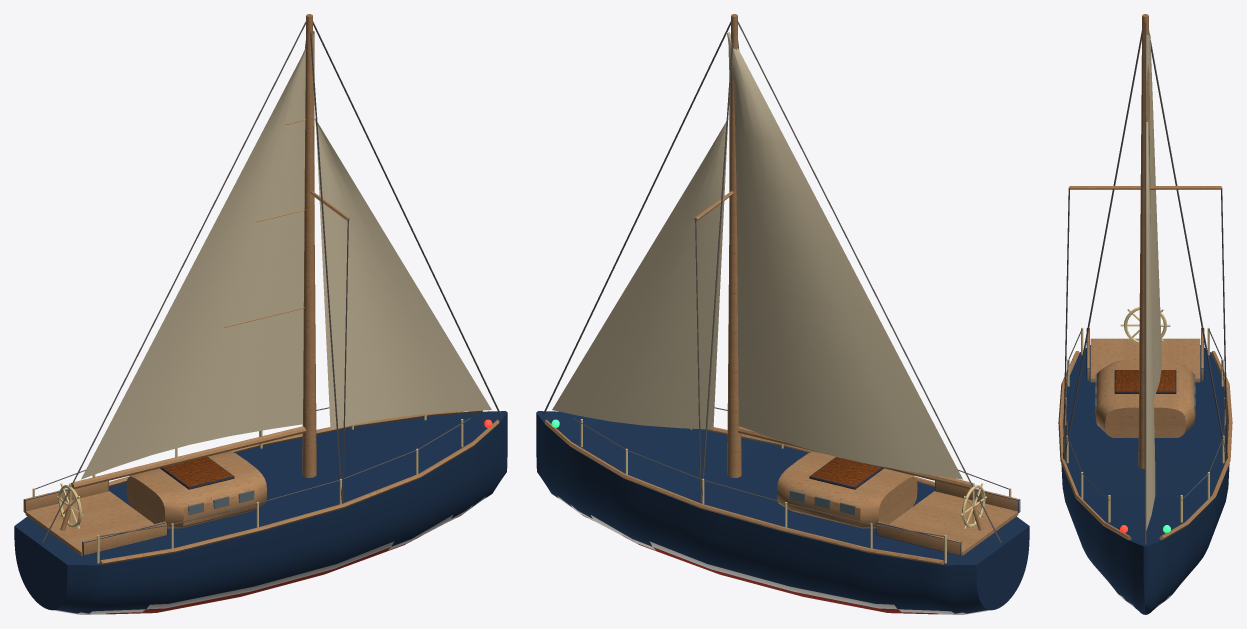
The model's file is sailboat.glb.
3 views of the same model, side by side, from view 1: azimuth 30°, elevation 25°; view 2: azimuth 150°, elevation 25°; view 3: azimuth 270°, elevation 25° (orthographic).
Parts seen in each view (by area): view 1: body, sail, jib; view 2: body, sail, jib; view 3: body, jib, sail.
Boxes of the visible parts, <box> form: body: <box>14,14,507,614</box>; sail: <box>71,31,314,489</box>; jib: <box>314,119,491,429</box>; body: <box>536,14,1029,614</box>; sail: <box>727,32,972,489</box>; jib: <box>552,121,727,429</box>; body: <box>1058,14,1232,614</box>; jib: <box>1146,122,1155,530</box>; sail: <box>1146,35,1161,398</box>.
Size of the model in its own units: 11.1 by 12.56 by 3.66.
Materials: 11 (3 with a texture image).
